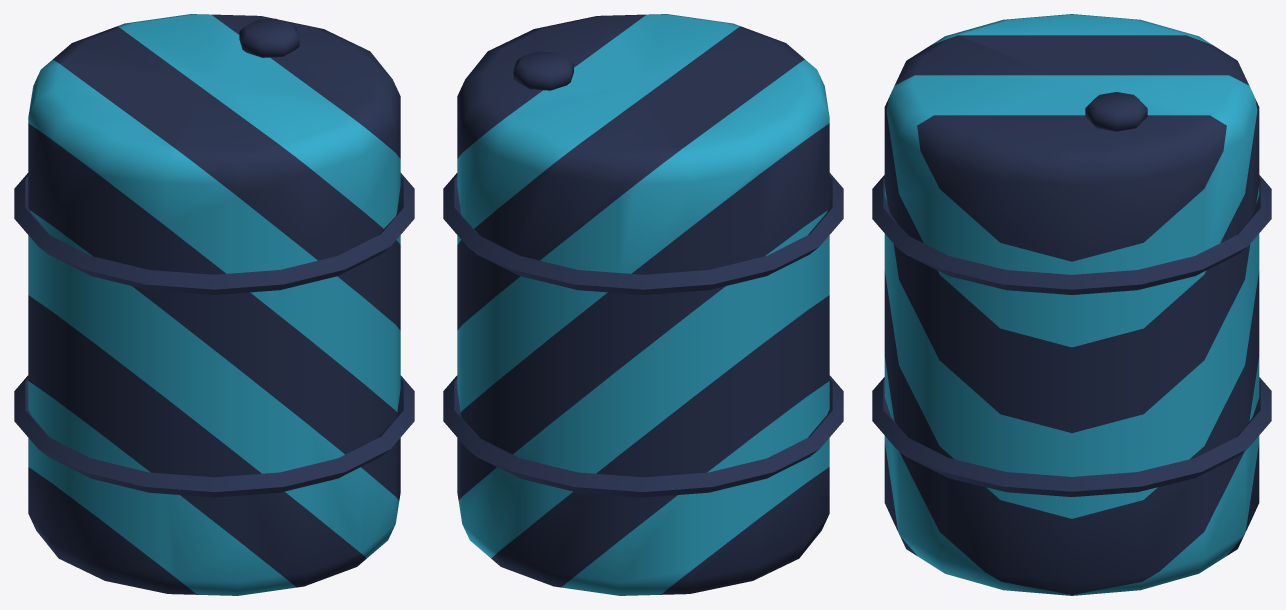
Rendered from W1_Barrel_B.fbx.
3 views of the same model, side by side, from view 1: azimuth 30°, elevation 25°; view 2: azimuth 150°, elevation 25°; view 3: azimuth 270°, elevation 25° (orthographic).
Visible parts, largest first — view 1: W1_Barrel_B; view 2: W1_Barrel_B; view 3: W1_Barrel_B.
Part boxes in pixels (bbox=[...]): W1_Barrel_B: bbox=[14, 14, 414, 595]; W1_Barrel_B: bbox=[443, 14, 843, 595]; W1_Barrel_B: bbox=[872, 14, 1271, 595].
Bounding box in the file's own units: 0.91 × 1.14 × 0.8962.
